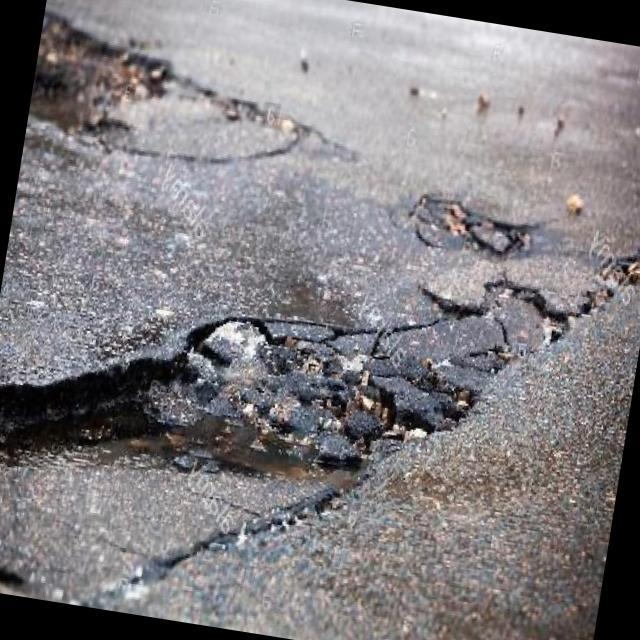Pothole: (0, 316, 388, 603), (29, 28, 159, 128)
